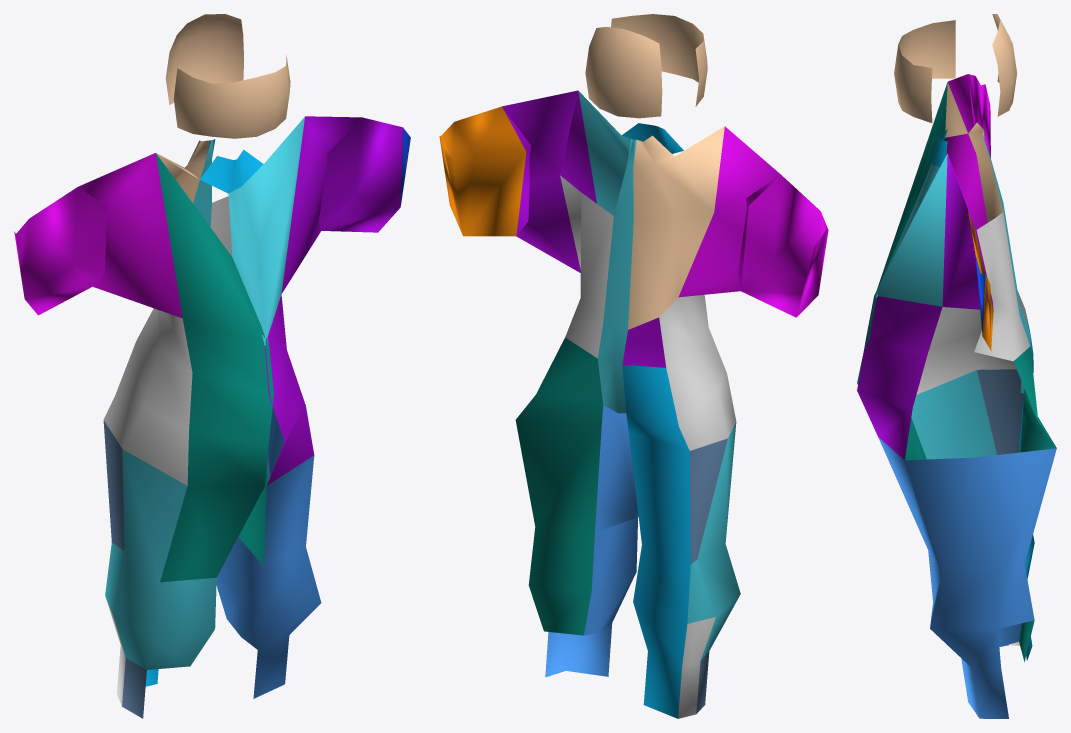
File: modelo-corpo-divergente.glb
3 renders of one model, left to right at view 1: azimuth 30°, elevation 25°; view 2: azimuth 150°, elevation 25°; view 3: azimuth 270°, elevation 25°, orthographic. The views are drawn at different scales.
Parts seen in each view (by area): view 1: corpo; view 2: corpo; view 3: corpo.
Part boxes in pixels (x1,y1,x2,y2): corpo: (14, 14, 410, 718); corpo: (439, 14, 828, 718); corpo: (857, 14, 1056, 718).
Size of what is drawn, in the model's own units: 2.31 by 3.8 by 1.03.
